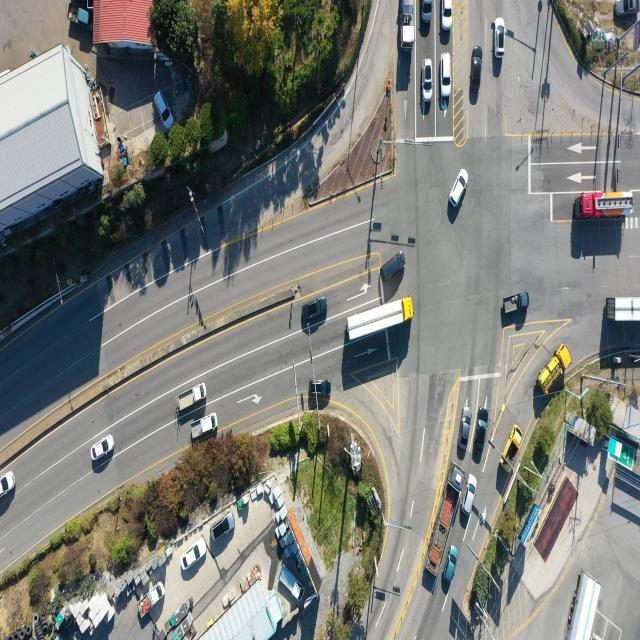car: (181, 534, 207, 574), (153, 92, 172, 132), (379, 254, 403, 284), (462, 474, 477, 517), (473, 415, 486, 464), (302, 300, 328, 324), (451, 170, 467, 208), (212, 513, 234, 540), (470, 48, 482, 97), (92, 437, 115, 462), (613, 0, 640, 21), (442, 52, 454, 99), (459, 408, 471, 452), (445, 545, 459, 582), (422, 60, 433, 104), (310, 378, 332, 399), (0, 472, 15, 500), (494, 17, 504, 58), (443, 0, 454, 30), (422, 0, 434, 22)
medium_truck: (425, 463, 467, 573), (342, 294, 410, 342), (566, 569, 601, 638), (538, 343, 572, 396), (578, 196, 636, 220), (609, 296, 640, 323), (402, 0, 418, 47)
small_truck: (499, 427, 525, 473), (280, 560, 302, 601), (176, 383, 206, 413), (138, 584, 164, 618), (191, 411, 218, 440), (504, 293, 531, 315), (68, 4, 91, 29)
